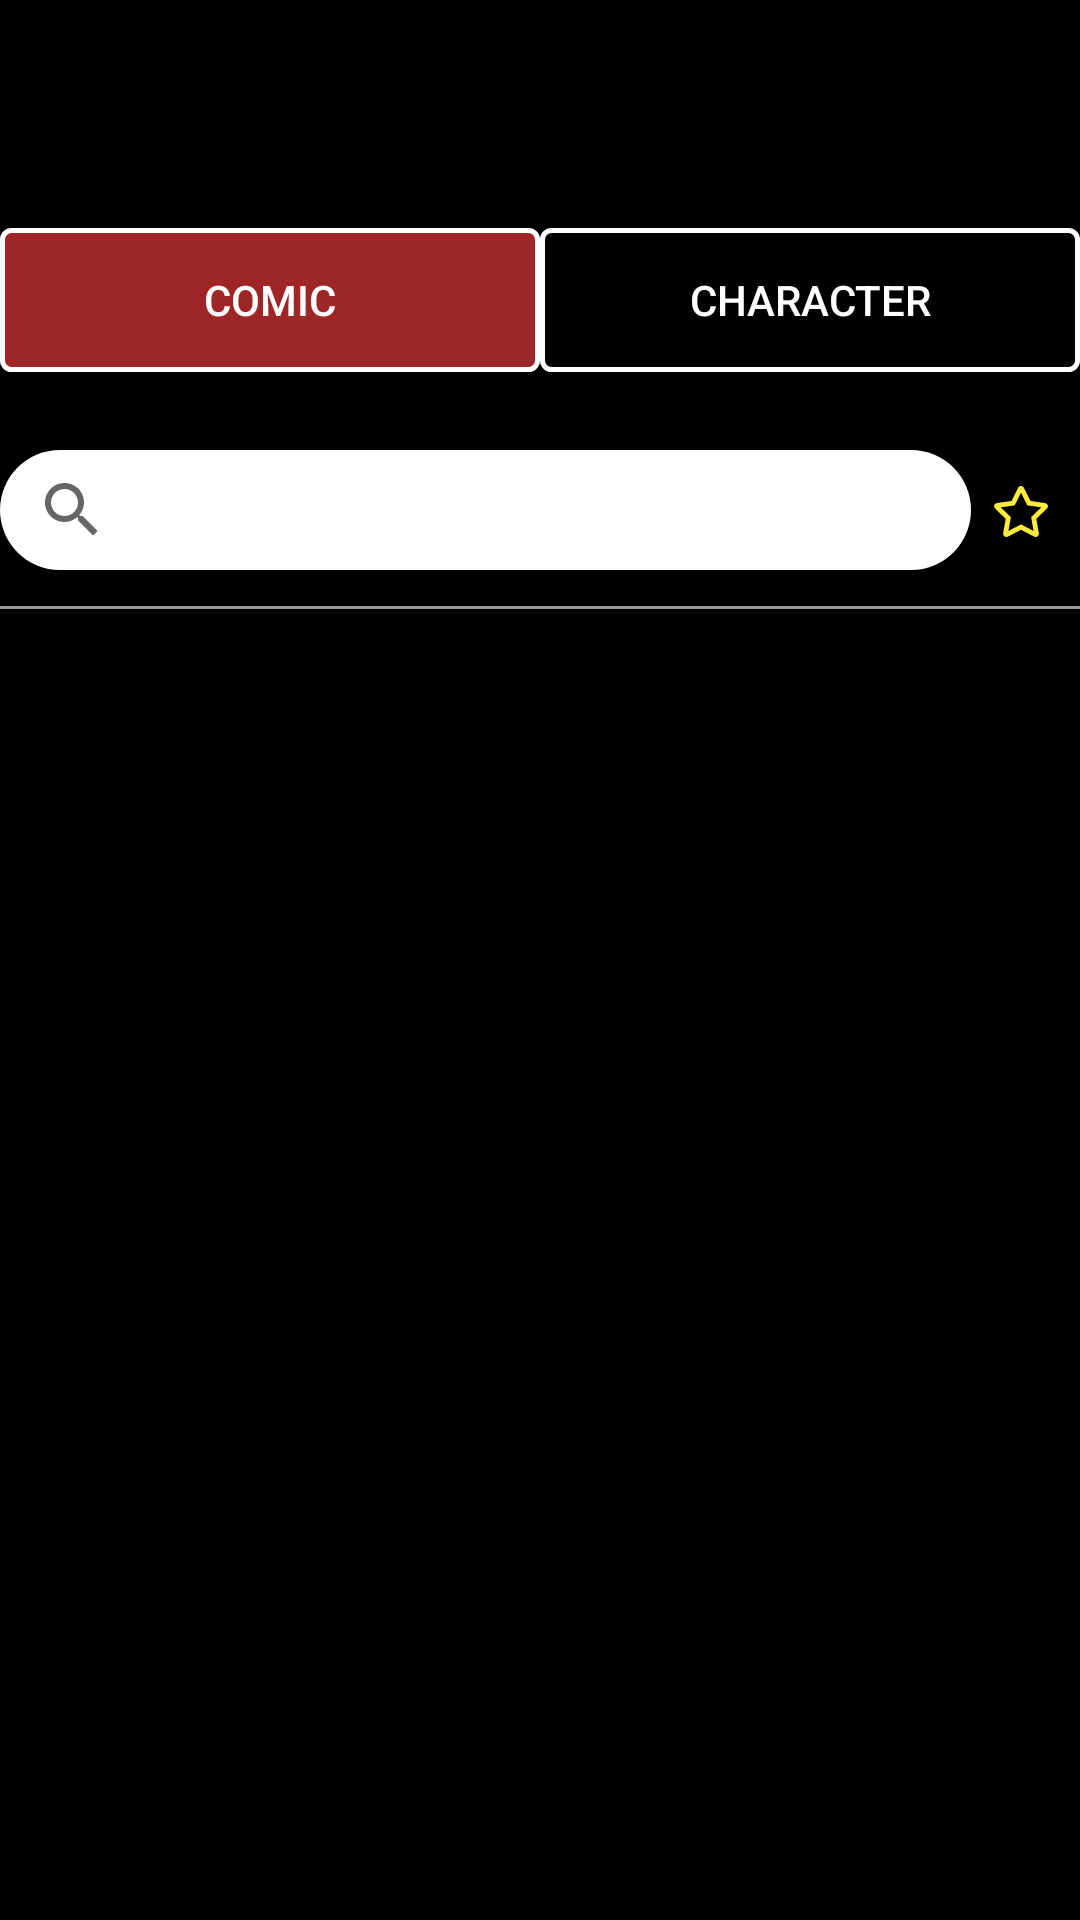

Icon click points for this 1080 x 1920 phone screenshot, format [x,y]:
star: [1021,511]
